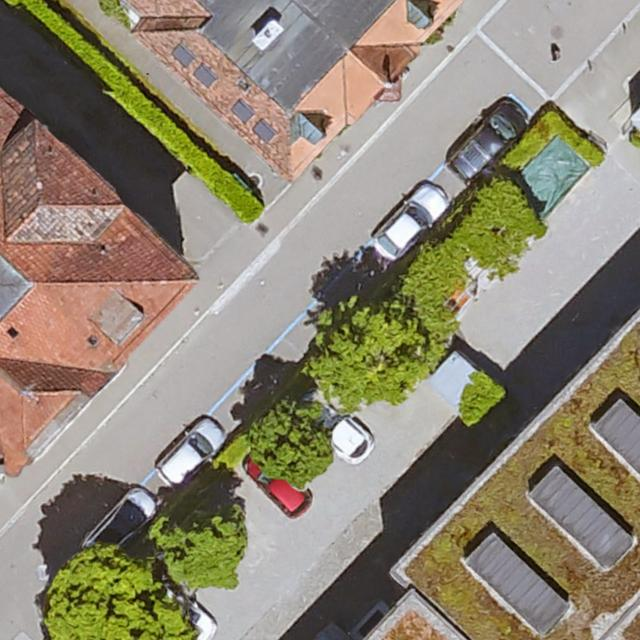tree: (41, 547, 191, 640), (308, 301, 426, 406), (249, 401, 334, 487), (159, 512, 246, 586)
